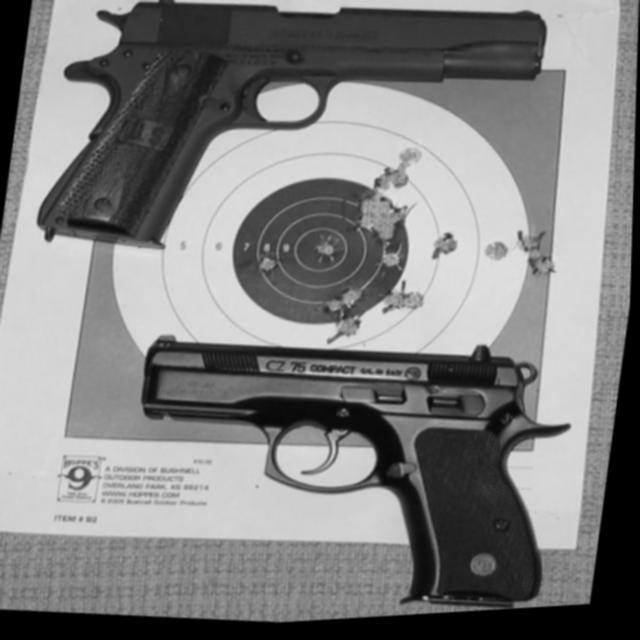weapon: (114, 308, 583, 634), (32, 0, 551, 293)
